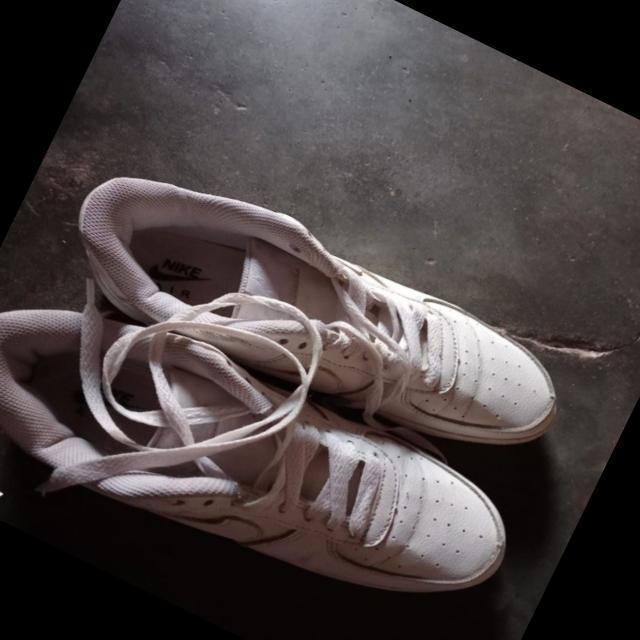nike fake air force: (0, 244, 539, 640), (45, 130, 599, 511)
